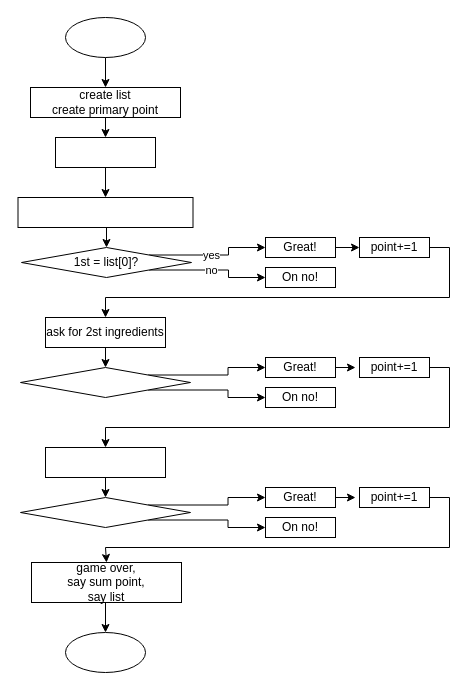
This 475x690 diagram has some shape labels left out. The box of each missing label's shape, as (x1, y1, x2, y2) in pixels:
2st = list[1]?: (20, 366, 190, 398)
3st = list[2]?: (20, 496, 190, 528)
ask for 1st ingredients: (17, 196, 193, 228)
ask for 3st ingredients: (44, 446, 166, 478)
end: (64, 632, 146, 672)
game begin: (54, 136, 156, 168)
start: (64, 16, 146, 58)
